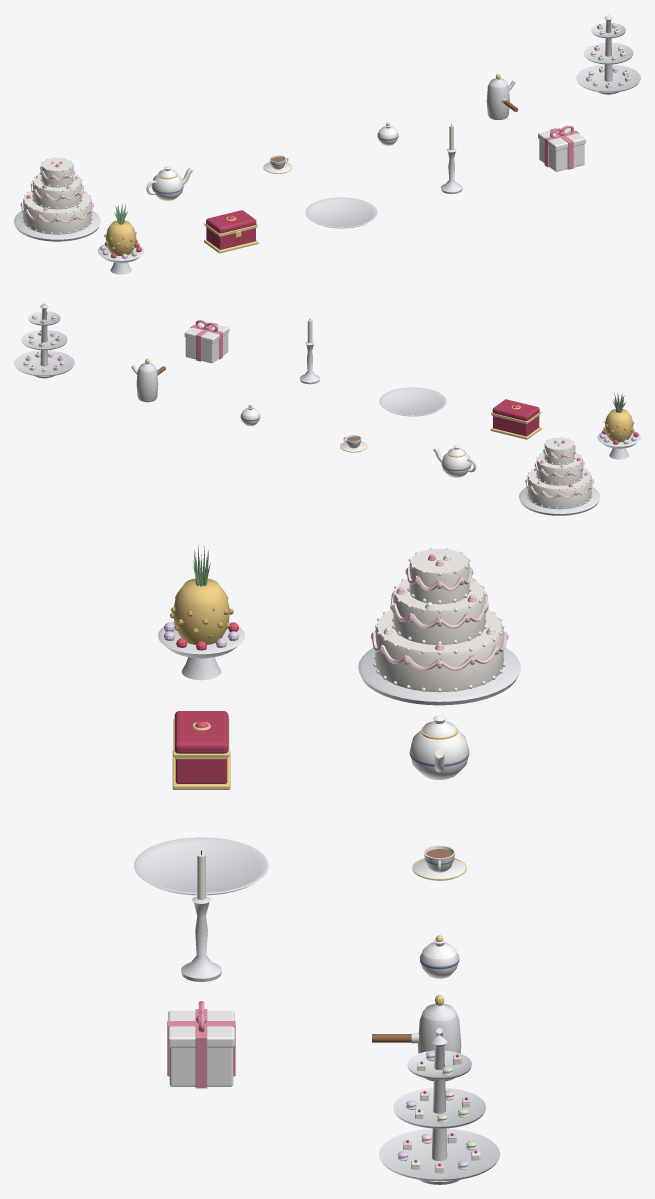
The model's file is table.glb.
3 renders of one model, top to bottom at view 1: azimuth 30°, elevation 25°; view 2: azimuth 150°, elevation 25°; view 3: azimuth 270°, elevation 25°, orthographic. The views are drawn at different scales.
Visible parts, largest first — view 1: cake_mesh, cake_stand_mesh, salver_mesh, gift_mesh, pineapple_mesh, chocolate_pot_mesh, teapot_mesh, ca_body, casket_lid_mesh, cn_body, cup_mesh; view 2: cake_mesh, cake_stand_mesh, salver_mesh, gift_mesh, pineapple_mesh, chocolate_pot_mesh, teapot_mesh, ca_body, casket_lid_mesh, cn_body, cup_mesh; view 3: cake_mesh, cake_stand_mesh, pineapple_mesh, salver_mesh, gift_mesh, teapot_mesh, casket_lid_mesh, chocolate_pot_mesh, ca_body, cn_body, cup_mesh, sugar_bowl_mesh.
Boxes of the visible parts, <box> form: cake_mesh: <box>14,157,100,241</box>; cake_stand_mesh: <box>576,14,640,94</box>; salver_mesh: <box>305,197,377,228</box>; gift_mesh: <box>538,125,585,171</box>; pineapple_mesh: <box>97,203,144,274</box>; chocolate_pot_mesh: <box>486,73,518,119</box>; teapot_mesh: <box>146,166,192,200</box>; ca_body: <box>204,226,258,253</box>; casket_lid_mesh: <box>204,210,257,235</box>; cn_body: <box>440,124,462,193</box>; cup_mesh: <box>263,155,292,173</box>; cake_mesh: <box>519,437,600,515</box>; cake_stand_mesh: <box>14,303,74,378</box>; salver_mesh: <box>379,387,446,416</box>; gift_mesh: <box>184,320,229,363</box>; pineapple_mesh: <box>597,392,640,459</box>; chocolate_pot_mesh: <box>131,358,165,402</box>; teapot_mesh: <box>433,445,476,477</box>; ca_body: <box>490,414,541,439</box>; casket_lid_mesh: <box>491,399,541,422</box>; cn_body: <box>299,319,320,384</box>; cup_mesh: <box>340,435,367,452</box>; cake_mesh: <box>358,548,520,705</box>; cake_stand_mesh: <box>379,1035,500,1184</box>; pineapple_mesh: <box>158,545,244,680</box>; salver_mesh: <box>134,837,268,895</box>; gift_mesh: <box>167,1001,235,1088</box>; teapot_mesh: <box>409,715,469,779</box>; casket_lid_mesh: <box>173,711,229,756</box>; chocolate_pot_mesh: <box>372,994,461,1081</box>; ca_body: <box>172,750,230,789</box>; cn_body: <box>181,850,221,981</box>; cup_mesh: <box>412,845,466,880</box>; sugar_bowl_mesh: <box>419,935,459,978</box>.
Bounding box in the file's own units: 3.36 × 0.394 × 0.975.
